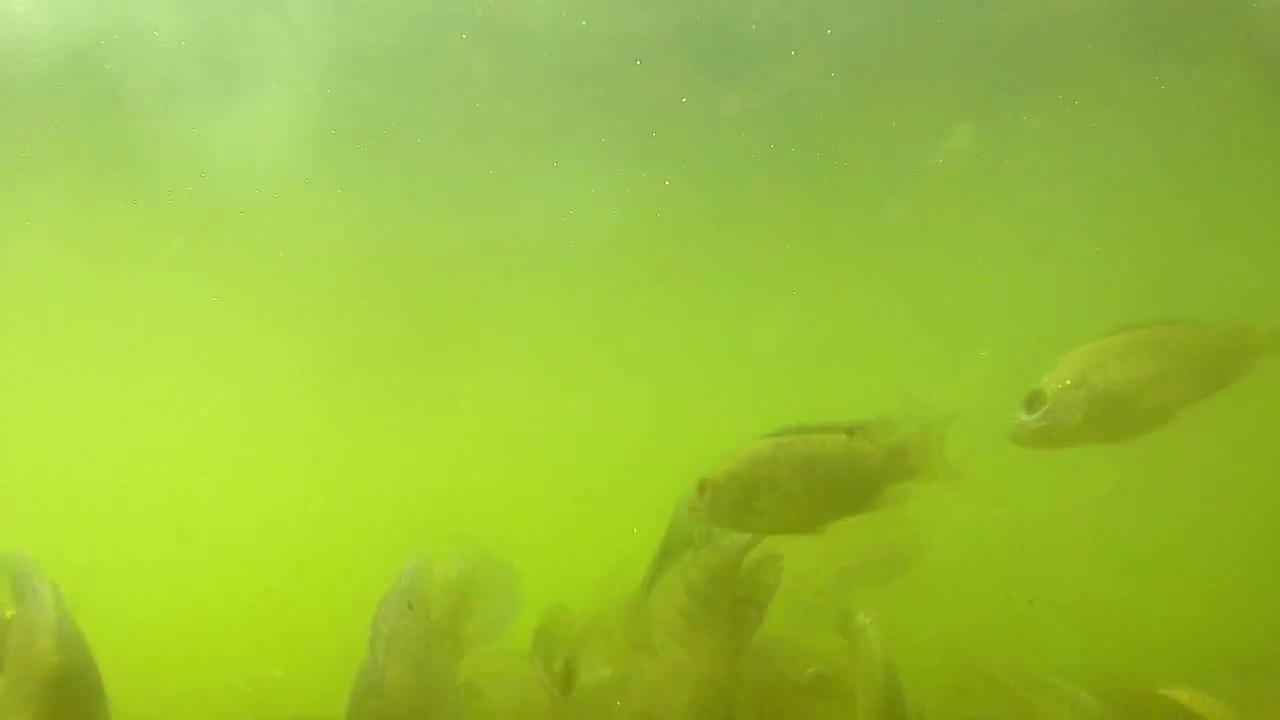Tilapia: (683, 402, 970, 568), (1003, 294, 1280, 464)
